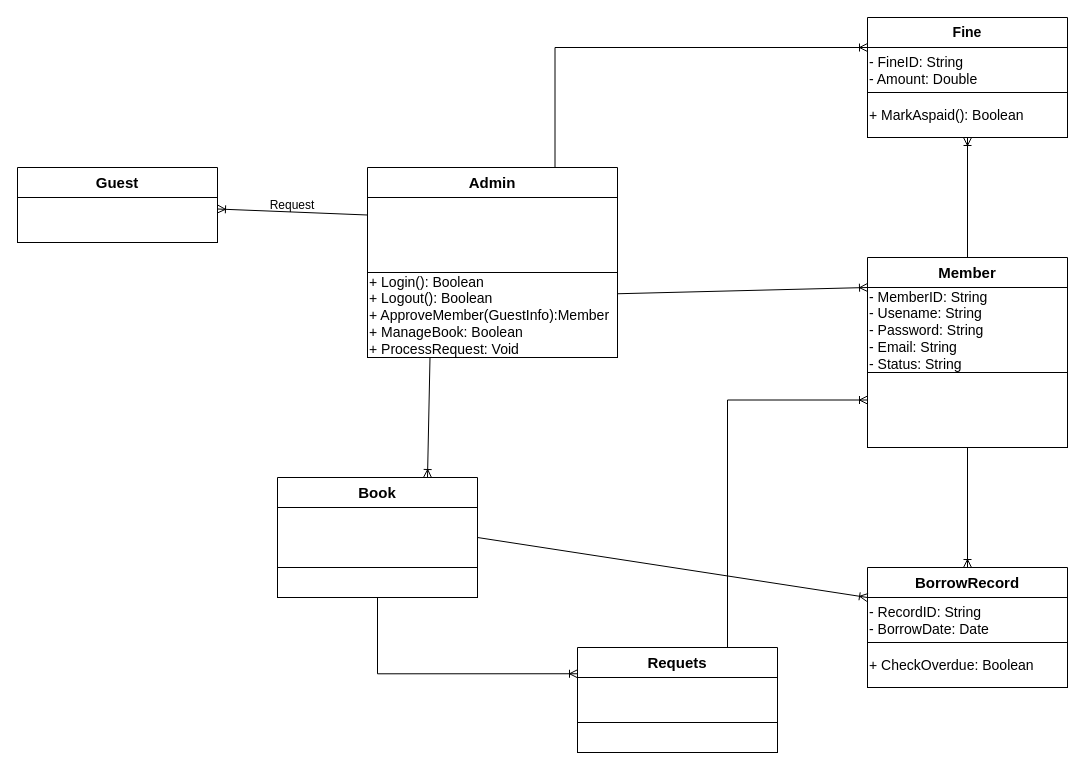
This 1085x770 diagram has some shape labels left out. Here are the shapes that lost their labels. From the top down, the centre of each, then its label:
At (x=117, y=219): "+ Register(info): Void + SearchCatalog: List<Book>".
At (x=492, y=234): "- AdminID: String - Usename: String - Password: String - Email: String".
At (x=967, y=410): "+ Login(): Boolean + Logout(): Boolean + SendRequest: Boolean + PayFine: Boolean".
At (x=377, y=537): "- BookID: String - Title: String - Status: Boolean".
At (x=377, y=582): "+ GetDetails(): String".
At (x=677, y=699): "- RequestID: String - RequestType: String".
At (x=677, y=737): "+ UppdateStatus: Void".
